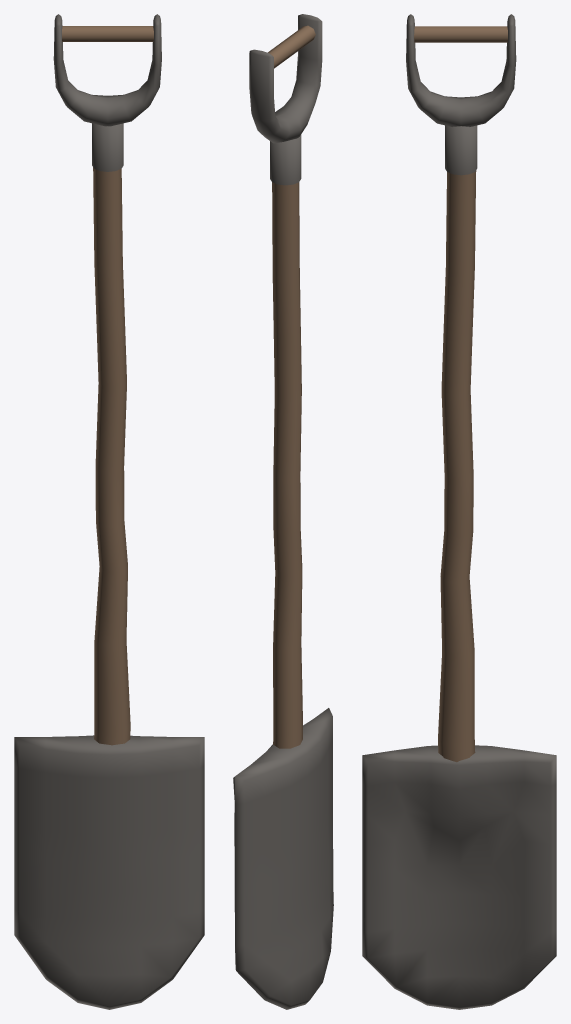
Rendered from shovel.fbx.
The picture shows the model from 3 angles, left to right: view 1: azimuth 90°, elevation 25°; view 2: azimuth 150°, elevation 25°; view 3: azimuth 270°, elevation 25°; orthographic projection. The views are drawn at different scales.
Parts seen in each view (by area): view 1: Plane, Shaft, Cylinder.001, Cylinder.002, Cylinder; view 2: Plane, Shaft, Cylinder.001, Cylinder, Cylinder.002; view 3: Plane, Shaft, Cylinder.001, Cylinder.002, Cylinder.
Boxes of the visible parts, bbox=[...] form: Plane: bbox=[14, 735, 204, 1009]; Shaft: bbox=[93, 167, 130, 745]; Cylinder.001: bbox=[53, 14, 161, 126]; Cylinder.002: bbox=[62, 26, 153, 41]; Cylinder: bbox=[92, 123, 123, 171]; Plane: bbox=[233, 708, 333, 1009]; Shaft: bbox=[272, 182, 302, 748]; Cylinder.001: bbox=[249, 14, 322, 143]; Cylinder: bbox=[270, 134, 301, 185]; Cylinder.002: bbox=[268, 25, 315, 68]; Plane: bbox=[362, 745, 556, 1009]; Shaft: bbox=[438, 170, 476, 762]; Cylinder.001: bbox=[406, 14, 516, 126]; Cylinder.002: bbox=[414, 26, 507, 42]; Cylinder: bbox=[445, 125, 477, 175].
Size of the model in its own units: 4.78 by 114 by 20.
